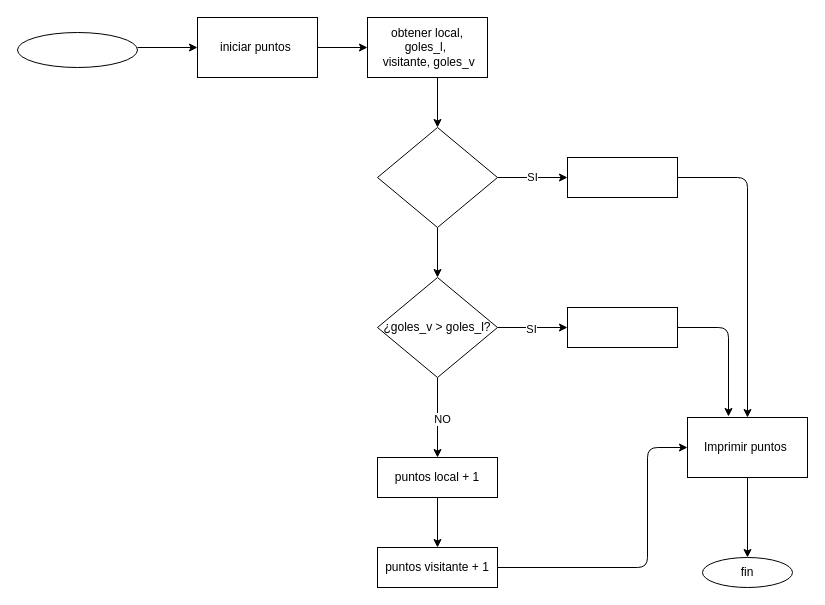
Some shapes in this 825 by 605 pixel diagram are drawn without their labels. The centre of each missing label's shape, as x and y in pixels:
"Inicio" goes at (x=77, y=50).
"puntos local + 3" goes at (x=622, y=177).
"puntos visitante + 3" goes at (x=622, y=327).
"¿goles_l > goles_v?" goes at (x=437, y=177).
